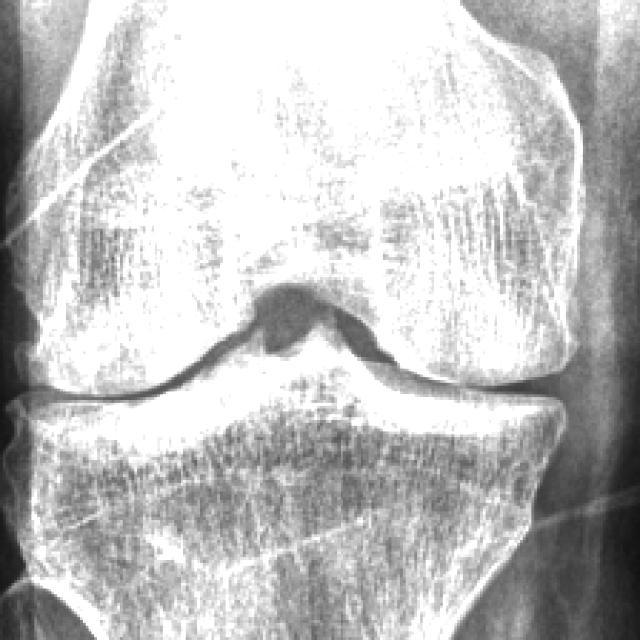femur: (29, 1, 577, 391)
tibia: (29, 323, 560, 637)
